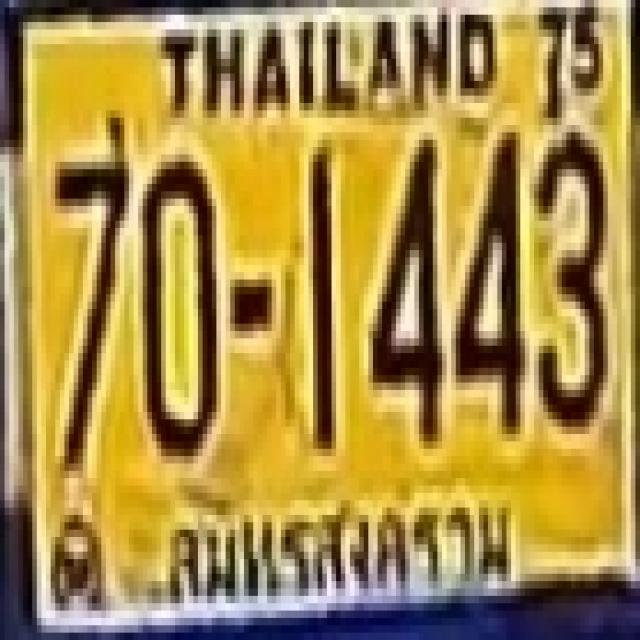0: (147, 154, 221, 449)
1: (309, 144, 336, 445)
3: (534, 125, 603, 419)
4: (368, 132, 438, 434), (452, 125, 520, 427)
7: (51, 147, 129, 464)
SKM: (160, 480, 518, 611)
